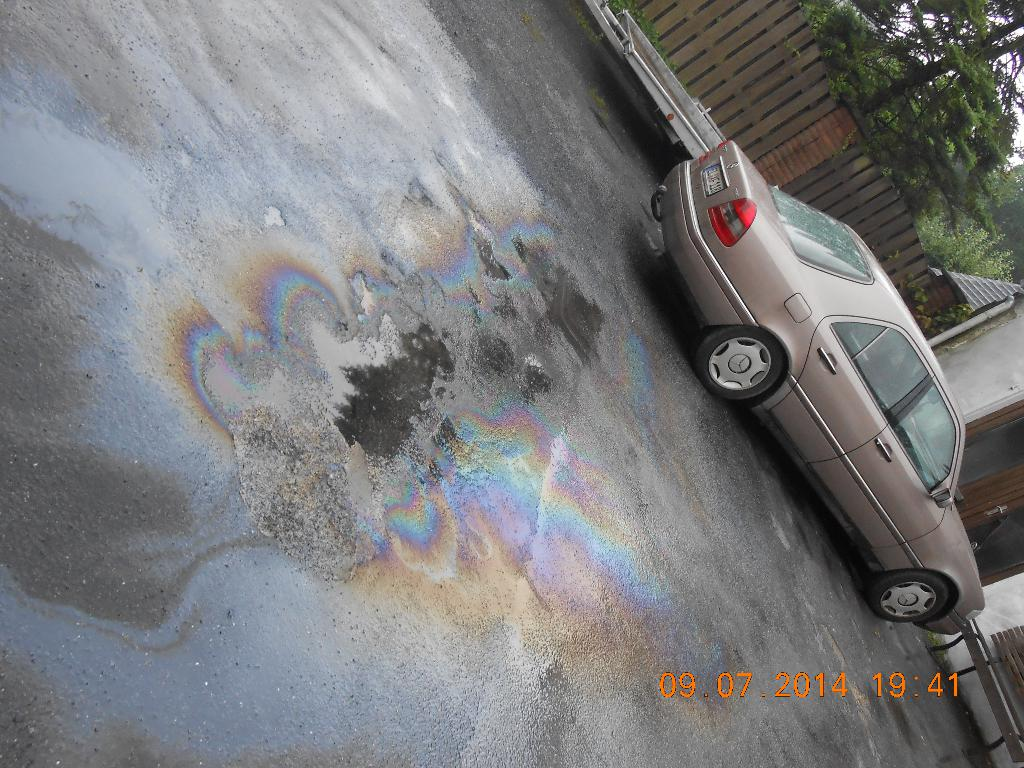Car: (642, 135, 986, 638)
